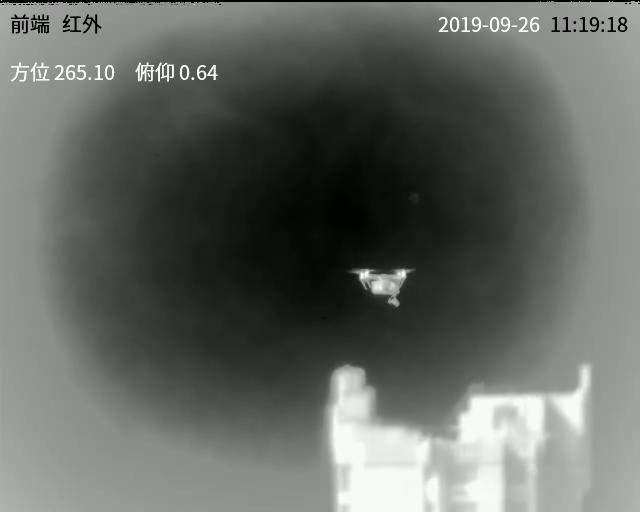uav: (346, 261, 417, 310)
